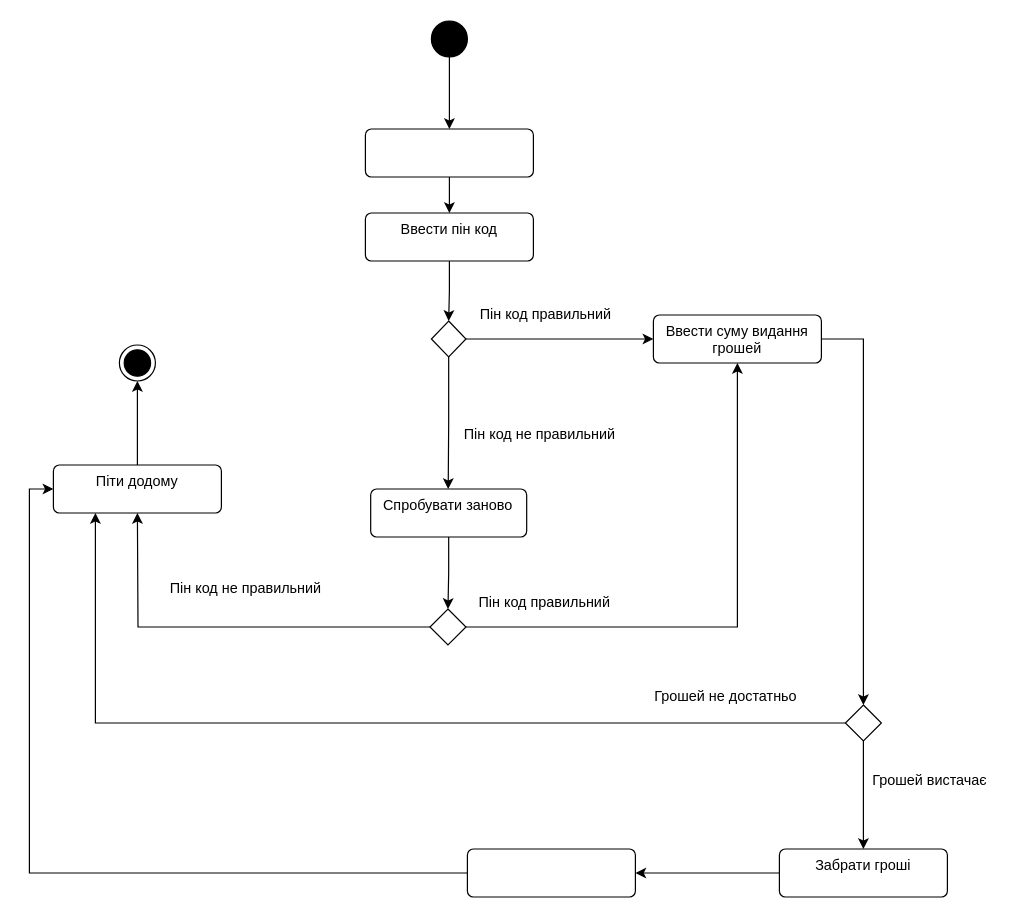
Some shapes in this 1022 by 918 pixel diagram are drawn without their labels. Each missing label, with the centre of its shape:
Вийняти картку: point (550, 872)
Вставити карту: point (448, 152)
